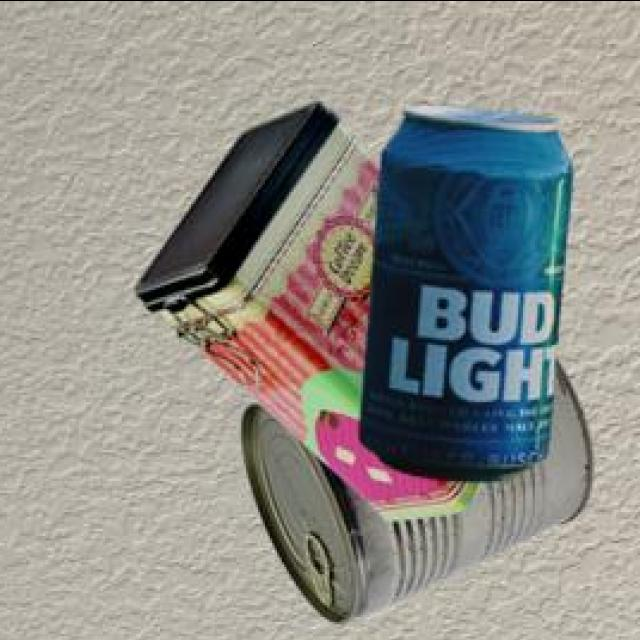logam: (140, 97, 485, 517), (245, 355, 596, 620), (364, 101, 577, 476)
